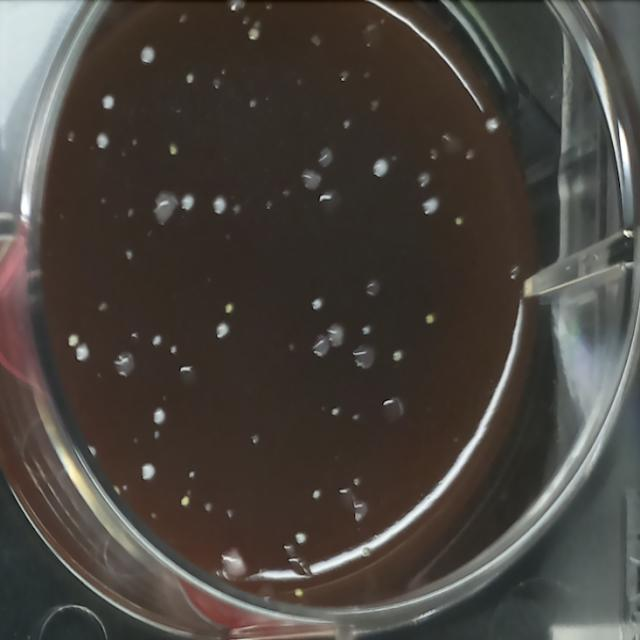Vibrio: (379, 394, 405, 429), (175, 363, 200, 396)
